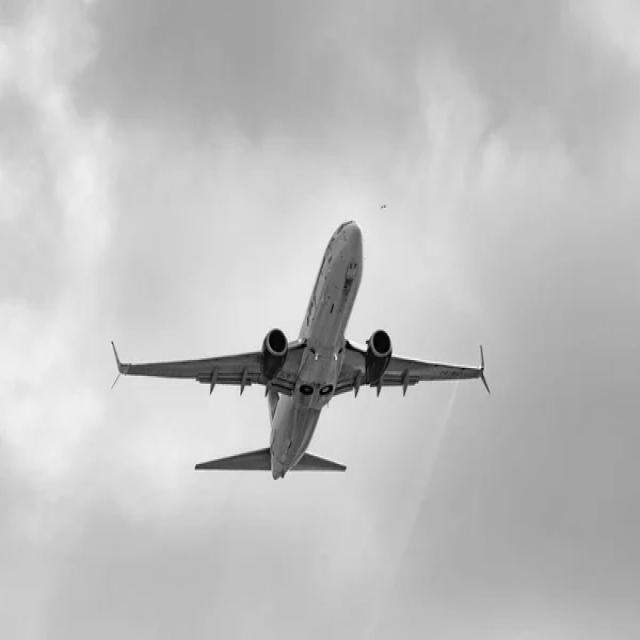Aircraft: (110, 204, 492, 487)
